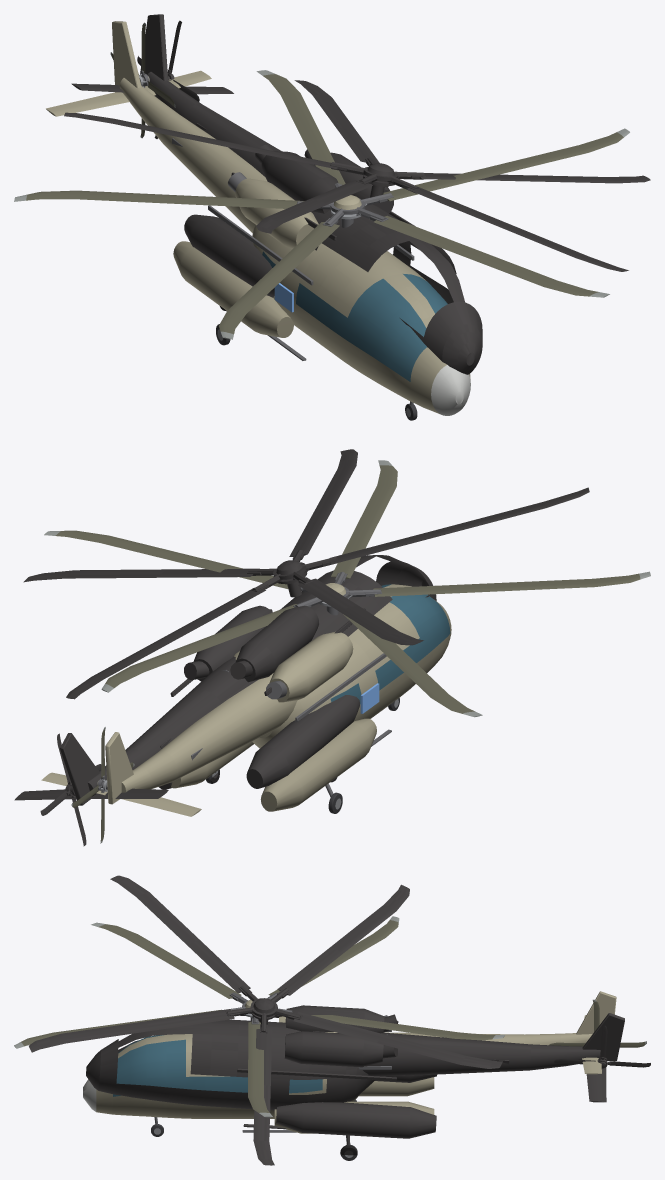
The model's file is helicopter__h225m.glb.
3 views of the same model, one above another, from view 1: azimuth 30°, elevation 25°; view 2: azimuth 150°, elevation 25°; view 3: azimuth 270°, elevation 25° (orthographic). The views are drawn at different scales.
Parts seen in each view (by area): view 1: Fuselage_Mesh, Wreck, Rotor_Main_Mesh, Engines_Mesh, Rotor_Tail_Mesh; view 2: Wreck, Fuselage_Mesh, Rotor_Main_Mesh, Engines_Mesh, Rotor_Tail_Mesh; view 3: Wreck, Fuselage_Mesh, Rotor_Main_Mesh, Rotor_Tail_Mesh.
Part boxes in pixels (<box>): Fuselage_Mesh: <box>46,21,470,415</box>; Wreck: <box>64,14,650,374</box>; Rotor_Main_Mesh: <box>14,70,629,339</box>; Engines_Mesh: <box>228,172,318,248</box>; Rotor_Tail_Mesh: <box>110,22,175,138</box>; Wreck: <box>14,449,589,846</box>; Fuselage_Mesh: <box>41,584,451,816</box>; Rotor_Main_Mesh: <box>44,460,650,717</box>; Engines_Mesh: <box>222,631,353,702</box>; Rotor_Tail_Mesh: <box>71,727,134,843</box>; Wreck: <box>29,875,650,1165</box>; Fuselage_Mesh: <box>83,991,616,1133</box>; Rotor_Main_Mesh: <box>14,916,504,1117</box>; Rotor_Tail_Mesh: <box>549,999,646,1047</box>.
Size of what is drawn, in the model's own units: 15.54 by 6.76 by 20.08.
